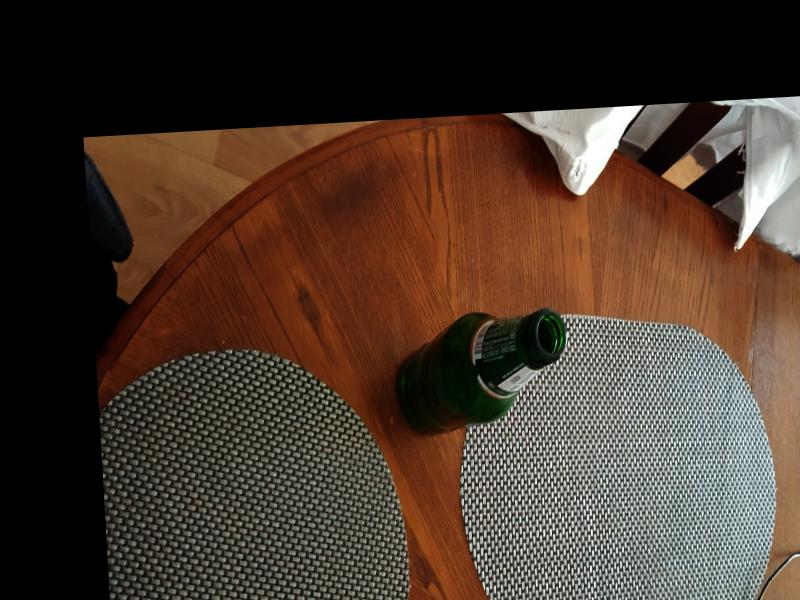Beer: (389, 308, 570, 434)
